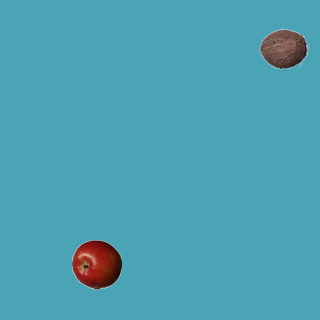Apple Braeburn: (71, 239, 121, 289)
Cocos: (258, 23, 308, 73)
